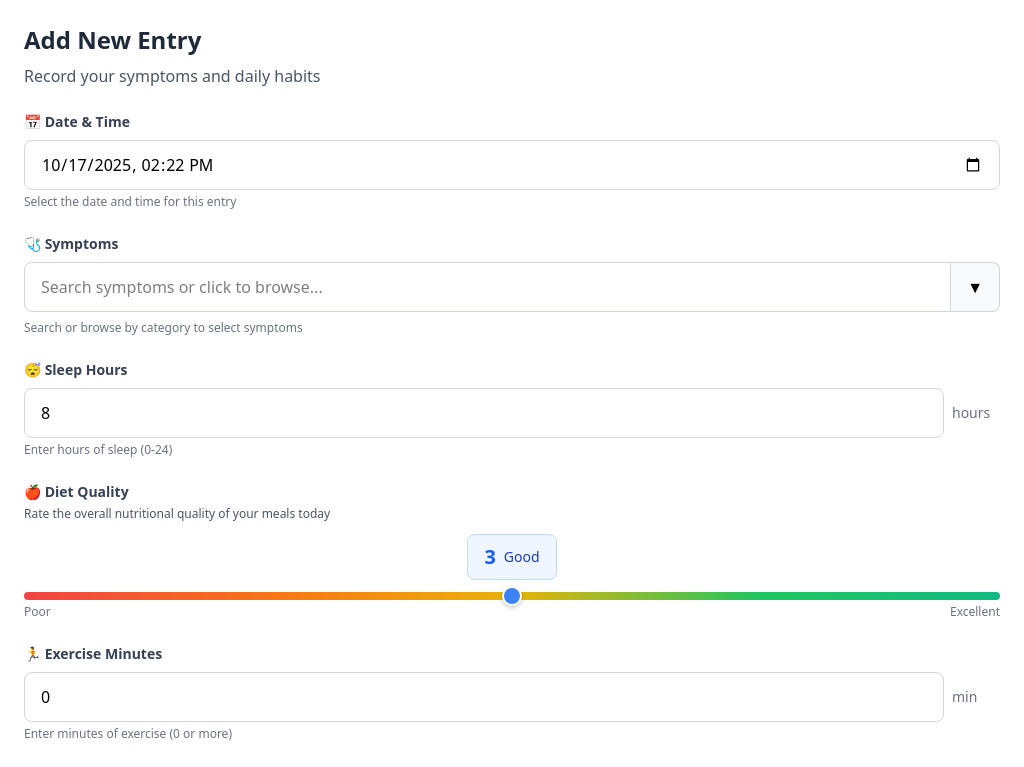
SymptomForm › should reset form after submission
This screenshot has width=1024, height=767.
# Fill out and submit form
Type "headache" into the field with placeholder "Search symptoms or click to browse..." at [488, 287], box [24,262,951,312]
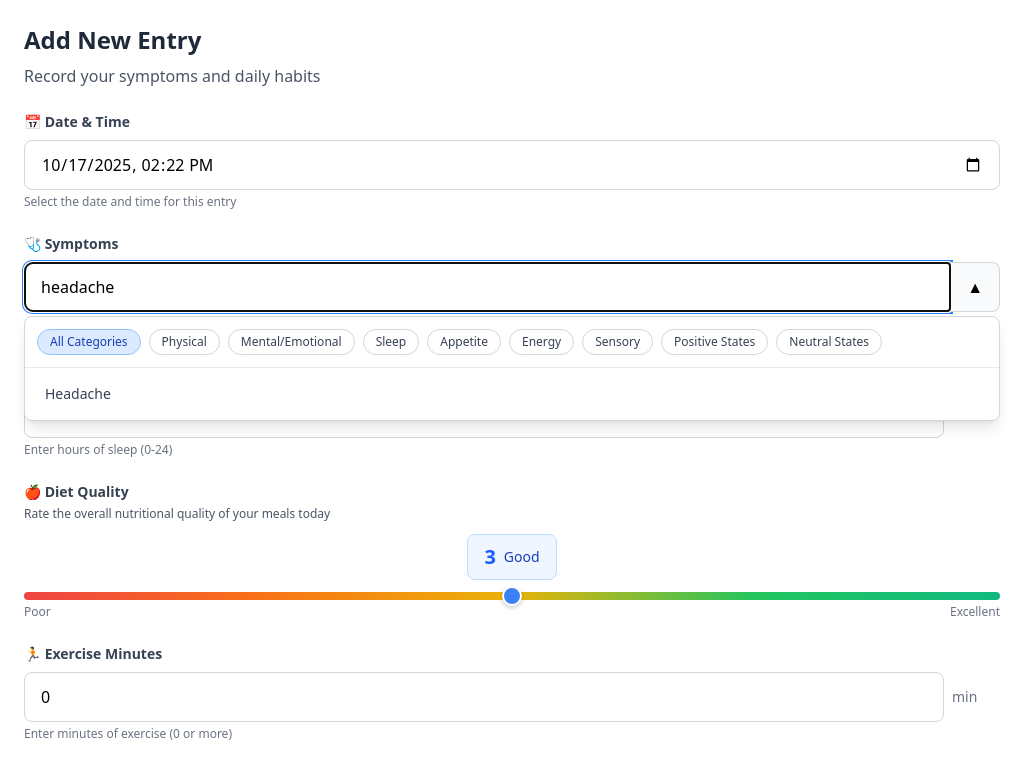
Click the button "Headache" at [78, 394], box [33,376,991,412]
(page scrolled)
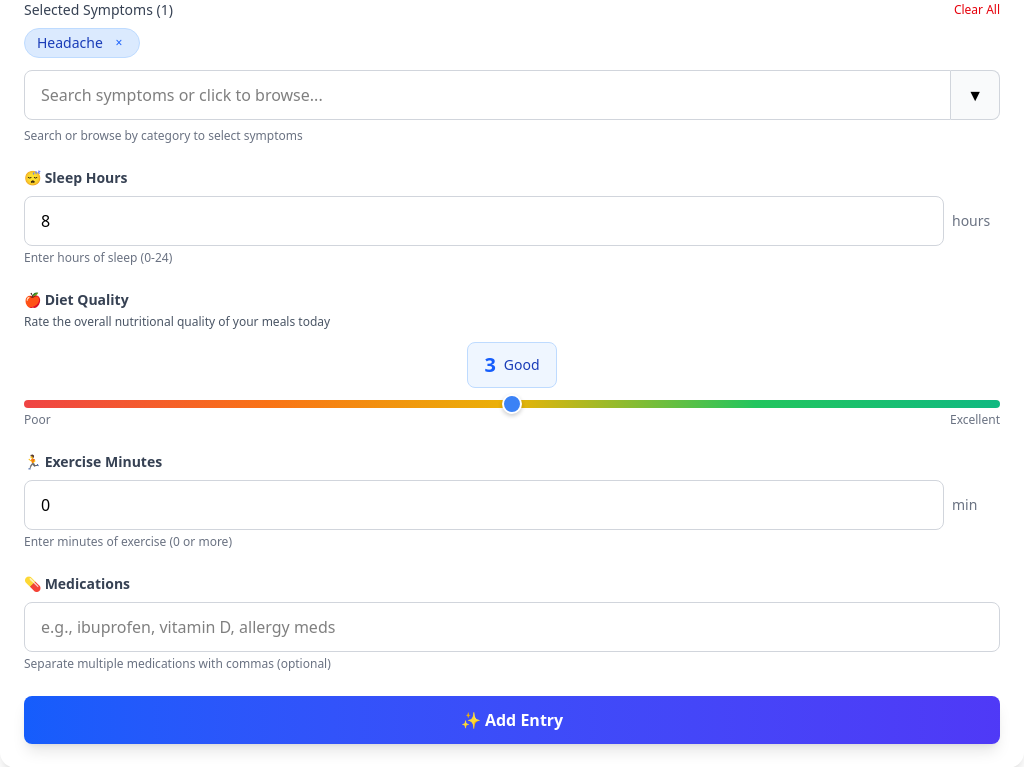
Click the button "✨ Add Entry" at [512, 720], box [24,696,1000,744]
(page scrolled)
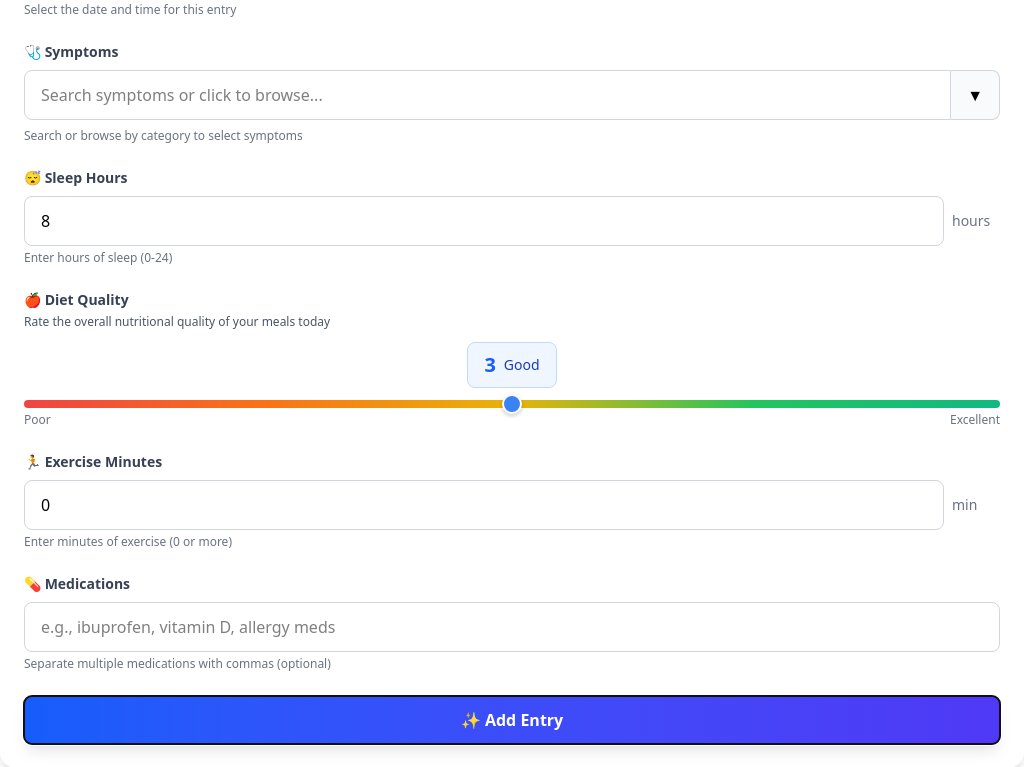
expect the number field labelled "😴 Sleep Hours" holds "8": met, box [24,196,944,246]
expect the text "Selected Symptoms (1)" is gone: met
